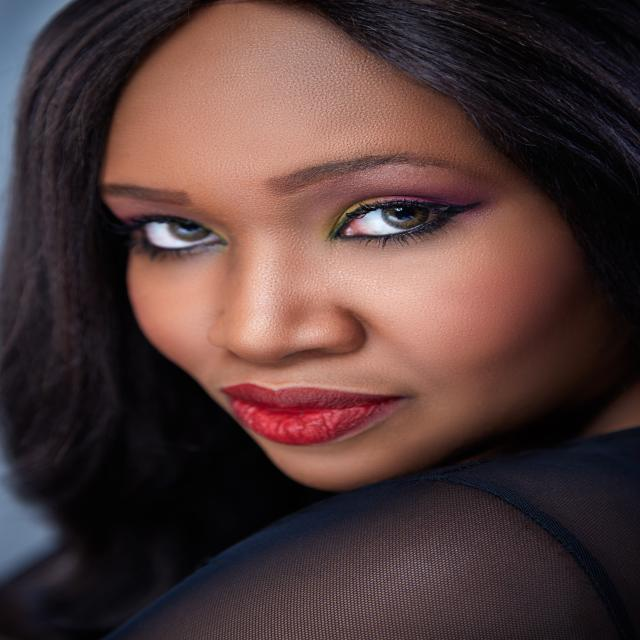others: (0, 1, 133, 88)
